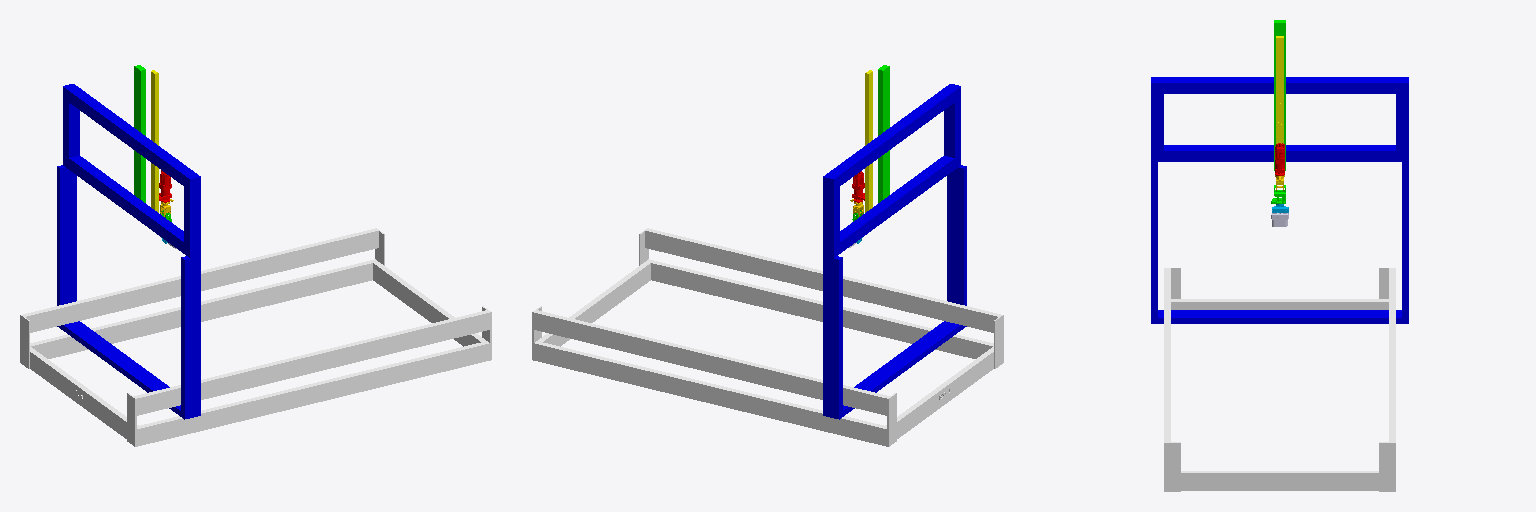
The robot description file, URDF, robot "gantry_robot":
<?xml version="1.0" encoding="utf-8"?>
<!-- =================================================================================== -->
<!-- |    This document was autogenerated by xacro from gantry_joint_limited_robot.urdf.xacro | -->
<!-- |    EDITING THIS FILE BY HAND IS NOT RECOMMENDED                                 | -->
<!-- =================================================================================== -->
<robot name="gantry_robot">
  <gazebo>
    <plugin filename="libgazebo_ros_control.so" name="ros_control">
      <!--robotNamespace>/slave</robotNamespace-->
      <!--robotSimType>gazebo_ros_control/DefaultRobotHWSim</robotSimType-->
      <legacyModeNS>true</legacyModeNS>
    </plugin>
  </gazebo>
  <transmission name="gantryX_trans">
    <type>transmission_interface/SimpleTransmission</type>
    <joint name="gantryX">
      <hardwareInterface>hardware_interface/PositionJointInterface</hardwareInterface>
    </joint>
    <actuator name="gantryX_motor">
      <mechanicalReduction>1</mechanicalReduction>
    </actuator>
  </transmission>
  <transmission name="gantryY_trans">
    <type>transmission_interface/SimpleTransmission</type>
    <joint name="gantryY">
      <hardwareInterface>hardware_interface/PositionJointInterface</hardwareInterface>
    </joint>
    <actuator name="gantryY_motor">
      <mechanicalReduction>1</mechanicalReduction>
    </actuator>
  </transmission>
  <transmission name="gantryZ_trans">
    <type>transmission_interface/SimpleTransmission</type>
    <joint name="gantryZ">
      <hardwareInterface>hardware_interface/PositionJointInterface</hardwareInterface>
    </joint>
    <actuator name="gantryZ_motor">
      <mechanicalReduction>1</mechanicalReduction>
    </actuator>
  </transmission>
  <transmission name="gantryYAW_trans">
    <type>transmission_interface/SimpleTransmission</type>
    <joint name="gantryYAW">
      <hardwareInterface>hardware_interface/PositionJointInterface</hardwareInterface>
    </joint>
    <actuator name="gantryYAW_motor">
      <mechanicalReduction>1</mechanicalReduction>
    </actuator>
  </transmission>
  <transmission name="gantryPITCH_trans">
    <type>transmission_interface/SimpleTransmission</type>
    <joint name="gantryPITCH">
      <hardwareInterface>hardware_interface/PositionJointInterface</hardwareInterface>
    </joint>
    <actuator name="gantryPITCH_motor">
      <mechanicalReduction>1</mechanicalReduction>
    </actuator>
  </transmission>
  <transmission name="gantryROLL_trans">
    <type>transmission_interface/SimpleTransmission</type>
    <joint name="gantryROLL">
      <hardwareInterface>hardware_interface/PositionJointInterface</hardwareInterface>
    </joint>
    <actuator name="gantryROLL_motor">
      <mechanicalReduction>1</mechanicalReduction>
    </actuator>
  </transmission>
  <gazebo reference="gantryX">
    <selfCollide>true</selfCollide>
  </gazebo>
  <gazebo reference="gantryY">
    <selfCollide>true</selfCollide>
  </gazebo>
  <gazebo reference="gantryZ">
    <selfCollide>true</selfCollide>
  </gazebo>
  <gazebo reference="gantryYAW">
    <selfCollide>true</selfCollide>
  </gazebo>
  <gazebo reference="gantryPITCH">
    <selfCollide>true</selfCollide>
  </gazebo>
  <gazebo reference="gantryROLL">
    <selfCollide>true</selfCollide>
  </gazebo>
  <link name="base_link">
    <!-- fixed structure -->
    <inertial>
      <mass value="1.0"/>
      <inertia ixx="1.0" ixy="0.0" ixz="0.0" iyy="1.0" iyz="0.0" izz="1.0"/>
    </inertial>
    <visual>
      <geometry>
        <mesh filename="package://gantry_description/meshes/Simulation_Base.STL"/>
      </geometry>
      <!--origin rpy="0 0 0" xyz="0.875 -0.565 0" /-->
      <origin rpy="0 0 0" xyz="0.875 0 0"/>
      <material name="white">
        <color rgba="1 1 1 1"/>
      </material>
    </visual>
    <collision>
      <geometry>
        <mesh filename="package://gantry_description/meshes/Simulation_Base.STL"/>
      </geometry>
      <!--origin rpy="0 0 0" xyz="0.875 -0.565 0" /-->
      <origin rpy="0 0 0" xyz="0.875 0 0"/>
    </collision>
  </link>
  <joint name="gantryX" type="prismatic">
    <parent link="base_link"/>
    <child link="gantryX_link"/>
    <limit effort="1" lower="0" upper="1.75" velocity="0.5"/>
    <axis xyz="1 0 0"/>
    <origin rpy="0 0 0" xyz="0 0 0.14288"/>
  </joint>
  <link name="gantryX_link">
    <inertial>
      <mass value="1.0"/>
      <inertia ixx="1.0" ixy="0.0" ixz="0.0" iyy="1.0" iyz="0.0" izz="1.0"/>
    </inertial>
    <visual>
      <geometry>
        <mesh filename="package://gantry_description/meshes/Simulation_X_Axis.STL"/>
      </geometry>
      <!--origin rpy="0 0 0" xyz="0 -0.565 0.5461" /-->
      <origin rpy="0 0 0" xyz="0 0 0.5461"/>
      <material name="blue">
        <color rgba="0 0 1 1"/>
      </material>
    </visual>
    <collision>
      <geometry>
        <mesh filename="package://gantry_description/meshes/Simulation_X_Axis.STL"/>
      </geometry>
      <!--origin rpy="0 0 0" xyz="0 -0.565 0.5461" /-->
      <origin rpy="0 0 0" xyz="0 0 0.5461"/>
    </collision>
  </link>
  <joint name="gantryY" type="prismatic">
    <parent link="gantryX_link"/>
    <child link="gantryY_link"/>
    <!--limit effort="1" lower="0" upper="1.0" velocity="0.5" /-->
    <limit effort="1" lower="-0.5" upper="0.5" velocity="0.5"/>
    <axis xyz="0 1 0"/>
    <!--axis xyz="0 -1 0" /-->
    <origin rpy="0 0 0" xyz="0.077 0 1.49793"/>
    <!-- 0.077 0 1.49793 -->
  </joint>
  <link name="gantryY_link">
    <inertial>
      <mass value="1.0"/>
      <inertia ixx="1.0" ixy="0.0" ixz="0.0" iyy="1.0" iyz="0.0" izz="1.0"/>
    </inertial>
    <visual>
      <geometry>
        <mesh filename="package://gantry_description/meshes/Simulation_Y_Axis.STL"/>
      </geometry>
      <origin rpy="0 0 0" xyz="0 0 0"/>
      <material name="green">
        <color rgba="0 1 0 1"/>
      </material>
    </visual>
    <collision>
      <geometry>
        <mesh filename="package://gantry_description/meshes/Simulation_Y_Axis.STL"/>
      </geometry>
      <origin rpy="0 0 0" xyz="0 0 0"/>
    </collision>
  </link>
  <joint name="gantryZ" type="prismatic">
    <parent link="gantryY_link"/>
    <child link="gantryZ_link"/>
    <limit effort="1" lower="0.0" upper="0.625" velocity="0.5"/>
    <axis xyz="0 0 -1"/>
    <!--origin rpy="3.1415 1.5707 3.1415" xyz="0.09843 0 -0.38044" /-->
    <!--origin rpy="3.1415 1.5707 3.1415" xyz="0.09843 0 -0.5334" /-->
    <origin rpy="0 0 0" xyz="0.09843 0 -0.5334"/>
  </joint>
  <link name="gantryZ_link">
    <inertial>
      <mass value="0.001"/>
      <inertia ixx="0.001" ixy="0.0" ixz="0.0" iyy="0.001" iyz="0.0" izz="0.001"/>
    </inertial>
    <visual>
      <geometry>
        <mesh filename="package://gantry_description/meshes/Simulation_Z_Axis.STL"/>
      </geometry>
      <origin rpy="0 1.5707 0" xyz="0 0 0"/>
      <!--origin rpy="0 1.5707 0" xyz="0 0 0" /-->
      <material name="yellow">
        <color rgba="1 1 0 1"/>
      </material>
    </visual>
    <collision>
      <geometry>
        <mesh filename="package://gantry_description/meshes/Simulation_Z_Axis.STL"/>
      </geometry>
      <origin rpy="0 1.5707 0" xyz="0 0 0"/>
      <!--origin rpy="0 1.5707 0" xyz="0 0 0" /-->
    </collision>
  </link>
  <!--  YAW ADDITION START -->

  <joint name="gantryYAW_Motor" type="fixed">
    <parent link="gantryZ_link"/>

    <child link="gantryYAW_Motor_link"/>
    <origin rpy="0 1.5707 0" xyz="0.0754 0.0 0.1"/>
  </joint>
  <link name="gantryYAW_Motor_link">
    <inertial>
      <mass value="0.001"/>
      <inertia ixx="0.001" ixy="0.00" ixz="0.00" iyy="0.001" iyz="0.00" izz="0.001"/>
    </inertial>
    <visual>
      <geometry>
        <mesh filename="package://gantry_description/meshes/roll_motor.STL" scale="0.001 0.001 0.001"/>
      </geometry>
      <material name="red">
        <color rgba="1 0 0 1"/>
      </material>
    </visual>
    <origin rpy="0 0 0" xyz="0 0 0"/>
    <collision>
      <geometry>
        <mesh filename="package://gantry_description/meshes/roll_motor.STL" scale="0.001 0.001 0.001"/>
      </geometry>
    </collision>
  </link>

  <joint name="gantryYAW" type="revolute">
    <parent link="gantryZ_link"/>
    <!-- gantryZ_link -->
    <child link="gantryYAW_link"/>
    <origin rpy="0 1.5707 0" xyz="0.0754 0.0 0.1"/>
    <limit effort="1" lower="-3.1415" upper="3.1415" velocity="3.15"/>
    <axis xyz="1 0 0"/>
  </joint>
  <link name="gantryYAW_link">
    <inertial>
      <mass value="0.001"/>
      <inertia ixx="0.001" ixy="0.00" ixz="0.00" iyy="0.001" iyz="0.00" izz="0.001"/>
    </inertial>
    <visual>
      <!--        <geometry>-->
      <!--          <cylinder length="0.2" radius="0.05"/>-->
      <!--        </geometry>-->
      <geometry>
        <mesh filename="package://gantry_description/meshes/roll_mini.STL" scale="0.001 0.001 0.001"/>
      </geometry>
      <material name="gold">
        <color rgba="1 0.84 0 1"/>
      </material>
    </visual>
    <origin rpy="0 0 0" xyz="0 0 0"/>
    <collision>
      <!--        <geometry>-->
      <!--          <cylinder length="0.2" radius="0.05"/>-->
      <!--        </geometry>-->
      <geometry>
        <mesh filename="package://gantry_description/meshes/roll_mini.STL" scale="0.001 0.001 0.001"/>
      </geometry>
    </collision>
  </link>
  <!--   YAW ADDITION END -->
  <!--  PITCH ADDITION START -->
  <joint name="gantryPITCH" type="revolute">
    <parent link="gantryYAW_link"/>
    <child link="gantryPITCH_link"/>
    <origin rpy="0 0 0" xyz="0.0859 0.0 0.0 "/>
    <limit effort="1" lower="-1.5707" upper="1.5707" velocity="3.15"/>
    <axis xyz="0 1 0"/>
  </joint>
  <link name="gantryPITCH_link">
    <inertial>
      <mass value="0.001"/>
      <inertia ixx="0.001" ixy="0.00" ixz="0.00" iyy="0.001" iyz="0.00" izz="0.001"/>
    </inertial>
    <visual>
      <!--      <geometry>-->
      <!--        <box size="0.05 0.1 0.05"/>-->
      <!--      </geometry>-->
      <geometry>
        <mesh filename="package://gantry_description/meshes/pitch.STL" scale="0.001 0.001 0.001"/>
      </geometry>
      <material name="green">
        <color rgba="0 1 0 1"/>
      </material>
    </visual>
    <origin rpy="1.5707 0 0" xyz="0 0 0"/>
    <collision>
      <!--      <geometry>-->
      <!--        <box size="0.05 0.1 0.05"/>-->
      <!--      </geometry>-->
      <geometry>
        <mesh filename="package://gantry_description/meshes/pitch.STL" scale="0.001 0.001 0.001"/>
      </geometry>
    </collision>
  </link>
  <!--  PITCH ADDITION END -->
  <!--  ROLL ADDITION START -->
  <joint name="gantryROLL" type="revolute">
    <parent link="gantryPITCH_link"/>
    <child link="gantryROLL_link"/>
    <origin rpy="0 0 0" xyz="0.098 0.0 0.0"/>
    <limit effort="1" lower="-3.1415" upper="3.1415" velocity="3.15"/>
    <axis xyz="1 0 0"/>
  </joint>
  <link name="gantryROLL_link">
    <inertial>
      <mass value="0.001"/>
      <inertia ixx="0.001" ixy="0.00" ixz="0.001" iyy="1.0" iyz="0.00" izz="0.001"/>
    </inertial>
    <visual>
      <!--      <geometry>-->
      <!--        <box size="0.05 0.1 0.05"/>-->
      <!--      </geometry>-->
      <geometry>
        <mesh filename="package://gantry_description/meshes/yaw.STL" scale="0.001 0.001 0.001"/>
      </geometry>
      <material name="deep_blue">
        <color rgba="0 0.75 1 1"/>
      </material>
    </visual>
    <origin rpy="1.5707 0 0" xyz="0 0 0"/>
    <collision>
      <!--      <geometry>-->
      <!--        <box size="0.05 0.1 0.05"/>-->
      <!--      </geometry>-->
      <geometry>
        <mesh filename="package://gantry_description/meshes/yaw.STL" scale="0.001 0.001 0.001"/>
      </geometry>
    </collision>
  </link>
  <!--  ROLL ADDITION END -->
  <joint name="ee_fixed_joint" type="fixed">
    <parent link="gantryROLL_link"/>
    <child link="ee_link"/>
    <origin rpy="0.0 0.0 0.0" xyz="0.08738 0.0 0"/>
    <!--origin xyz="0.1 0.0 0.0" rpy="0.0 0.0 0.0" /-->
  </joint>
  <link name="ee_link">
    <collision>
      <geometry>
        <box size="0.05 0.05 0.05"/>
      </geometry>
      <origin rpy="0 0 0" xyz="0 0 0"/>
    </collision>
    <inertial>
      <mass value="0.001"/>
      <inertia ixx="0.001" ixy="0.0" ixz="0.0" iyy="0.001" iyz="0.0" izz="0.001"/>
    </inertial>
  </link>

  <!--  IN-HAND ADDITION START -->
  <joint name="inhand_cam_joint" type="fixed">
    <parent link="gantryROLL_link"/>
    <!-- gantryZ_link -->
    <child link="inhand_link"/>
    <origin rpy="0.0 0.0 0.0" xyz="0.12403 0.0294 0.05638"/>
  </joint>

  <link name="inhand_link">
    <inertial>
      <mass value="0.001"/>
      <inertia ixx="0.001" ixy="0.00" ixz="0.001" iyy="1.0" iyz="0.00" izz="0.001"/>
    </inertial>
    <visual>
      <geometry>
        <mesh filename="package://gantry_description/meshes/in-hand.STL" scale="0.001 0.001 0.001"/>
      </geometry>
      <material name="grey">
        <color rgba="0.9 0.9 1 1"/>
      </material>
    </visual>
    <origin rpy="0 0 0" xyz="0 0 0"/>
    <collision>
      <geometry>
        <mesh filename="package://gantry_description/meshes/in-hand.STL" scale="0.001 0.001 0.001"/>
      </geometry>
    </collision>
  </link>

  <!--  IN-HAND ADDITION END -->

  <!-- ROS base_link to UR 'Base' Coordinates transform -->
  <link name="base"/>
  <joint name="base_link-base_fixed_joint" type="fixed">
    <!-- Note. this rotation is only needed as long as base_link itself is
                 not corrected wrt the real robot (ie: rotated over 180
                 degrees)
      -->
    <origin rpy="0 0 0" xyz="0 0 0"/>
    <!--0 0 ${-pi} -->
    <parent link="base_link"/>
    <child link="base"/>
  </joint>
  <!-- Frame coincident with all-zeros TCP on UR controller -->
  <!--link name="${prefix}tool0"/>
    <joint name="${prefix}gantryYAW_link-tool0_fixed_joint" type="fixed">
      <origin xyz="0 0 -0.24" rpy="0 0 0"/>
      <parent link="${prefix}gantryYAW_link"/>
      <child link="${prefix}tool0"/>
    </joint-->
  <!--link name="world" />
    <joint name="world_joint" type="fixed">
        <parent link="world" />
        <child link="base_link" />
        <origin rpy="0.0 0.0 0.0" xyz="0.0 0.0 0.0" />
    </joint-->
  <!--transmission name="trans_gantryX">
        <type>transmission_interface/SimpleTransmission</type>
        <joint name="gantryX">
            <hardwareInterface>hardware_interface/PositionJointInterface</hardwareInterface>
        </joint>
        <actuator name="gantryX_motor">
            <hardwareInterface>hardware_interface/PositionJointInterface</hardwareInterface>
            <mechanicalReduction>1</mechanicalReduction>
        </actuator>
    </transmission>

    <transmission name="trans_gantryY">
        <type>transmission_interface/SimpleTransmission</type>
        <joint name="gantryY">
            <hardwareInterface>hardware_interface/PositionJointInterface</hardwareInterface>
        </joint>
        <actuator name="gantryY_motor">
            <hardwareInterface>hardware_interface/PositionJointInterface</hardwareInterface>
            <mechanicalReduction>1</mechanicalReduction>
        </actuator>
    </transmission>

    <transmission name="trans_gantryZ">
        <type>transmission_interface/SimpleTransmission</type>
        <joint name="gantryZ">
            <hardwareInterface>hardware_interface/PositionJointInterface</hardwareInterface>
        </joint>
        <actuator name="gantryZ_motor">
            <hardwareInterface>hardware_interface/PositionJointInterface</hardwareInterface>
            <mechanicalReduction>1</mechanicalReduction>
        </actuator>
    </transmission>

    <gazebo>
        <plugin name="gazebo_ros_control" filename="libgazebo_ros_control.so">
            <robotNamespace>/</robotNamespace>
        </plugin>
    </gazebo-->
  <!-- gantryROLL_lower_limit="-3.1415"  gantryROLL_upper_limit="3.1415" -->
  <link name="world"/>
  <joint name="world_joint" type="fixed">
    <parent link="world"/>
    <child link="base_link"/>
    <origin rpy="0.0 0.0 0.0" xyz="0.0 0.0 0.0"/>
  </joint>
</robot>

--- Facts derived from the render (not from the file) ---
The picture shows the robot from 3 angles, left to right: view 1: azimuth 30°, elevation 25°; view 2: azimuth 150°, elevation 25°; view 3: azimuth 270°, elevation 25°; orthographic projection.
Model gantry_robot with 12 links and 11 joints (3 revolute, 3 prismatic, 5 fixed), rooted at world, posed all joints at 0.
Visible links, largest first — view 1: base_link, gantryX_link, gantryY_link, gantryZ_link; view 2: base_link, gantryX_link, gantryY_link, gantryZ_link; view 3: gantryX_link, base_link, gantryZ_link, gantryY_link.
Link boxes in pixels (x1=…): base_link: x1=20, y1=228, x2=491, y2=446; gantryX_link: x1=57, y1=84, x2=200, y2=419; gantryY_link: x1=134, y1=65, x2=145, y2=202; gantryZ_link: x1=151, y1=70, x2=158, y2=212; base_link: x1=532, y1=228, x2=1003, y2=446; gantryX_link: x1=823, y1=84, x2=966, y2=419; gantryY_link: x1=878, y1=65, x2=889, y2=202; gantryZ_link: x1=865, y1=70, x2=872, y2=212; gantryX_link: x1=1151, y1=77, x2=1408, y2=323; base_link: x1=1164, y1=268, x2=1395, y2=491; gantryZ_link: x1=1276, y1=36, x2=1283, y2=182; gantryY_link: x1=1274, y1=20, x2=1285, y2=170.
Size in the robot's own frame: 2.46 by 1.52 by 2.12 metres.
9 mesh visuals loaded from 9 distinct referenced files (9 binary STL).
